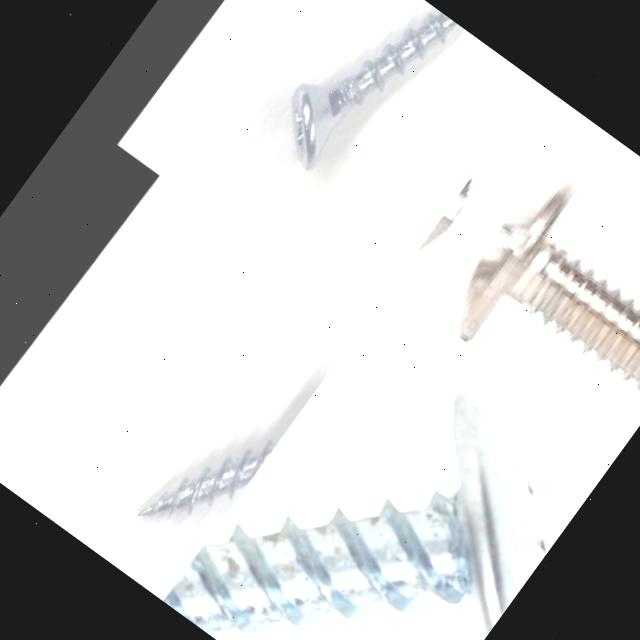Screw: (162, 394, 544, 639), (456, 177, 640, 395), (291, 12, 457, 169), (139, 440, 276, 515)
